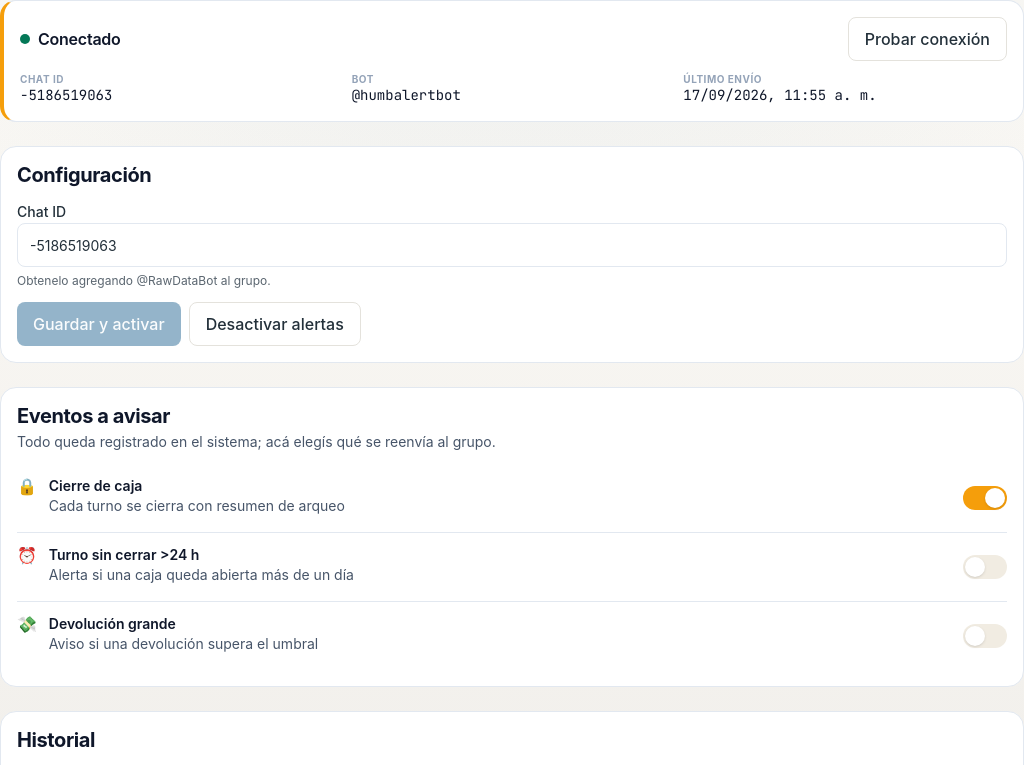
Test case: NotificationsClient › los eventos se prenden con interruptores y guardan al toque
Click the switch named "Avisar: Turno sin cerrar >24 h". click: (985, 566)
box: [963,544,1007,588]
(page scrolled)
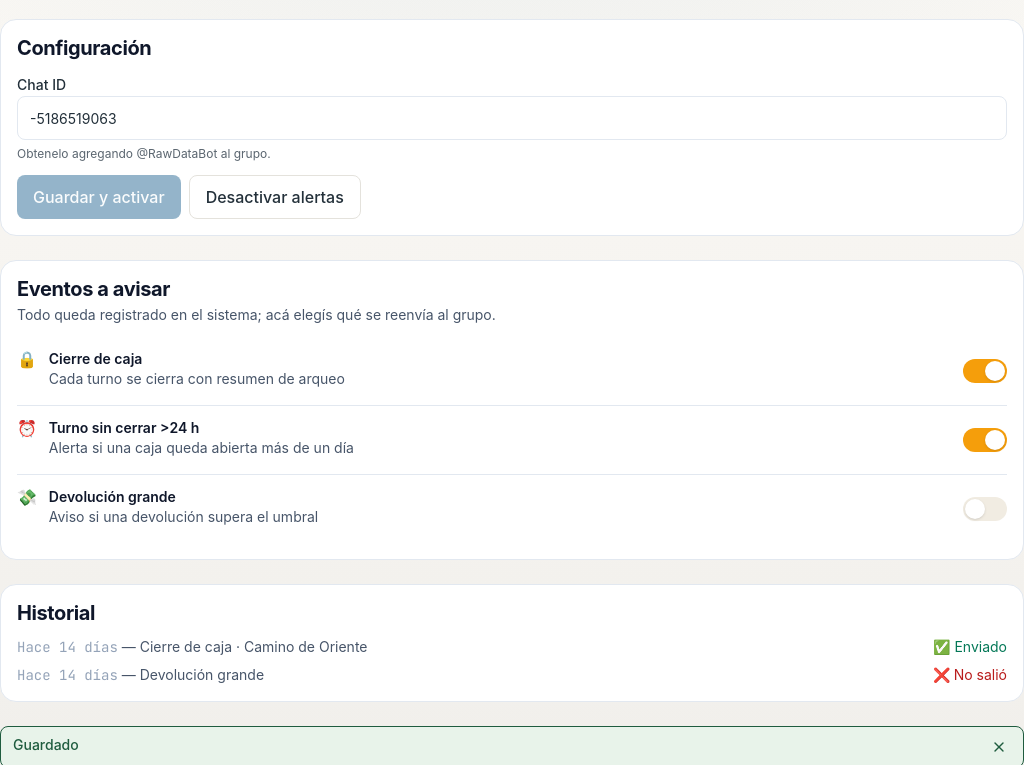
Now the text "Guardado" is shown, box [13,734,79,754]
